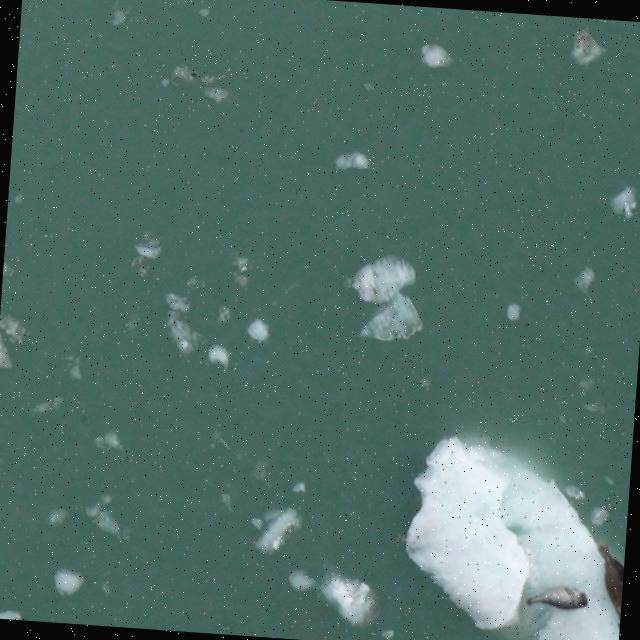seal: (518, 577, 593, 615)
